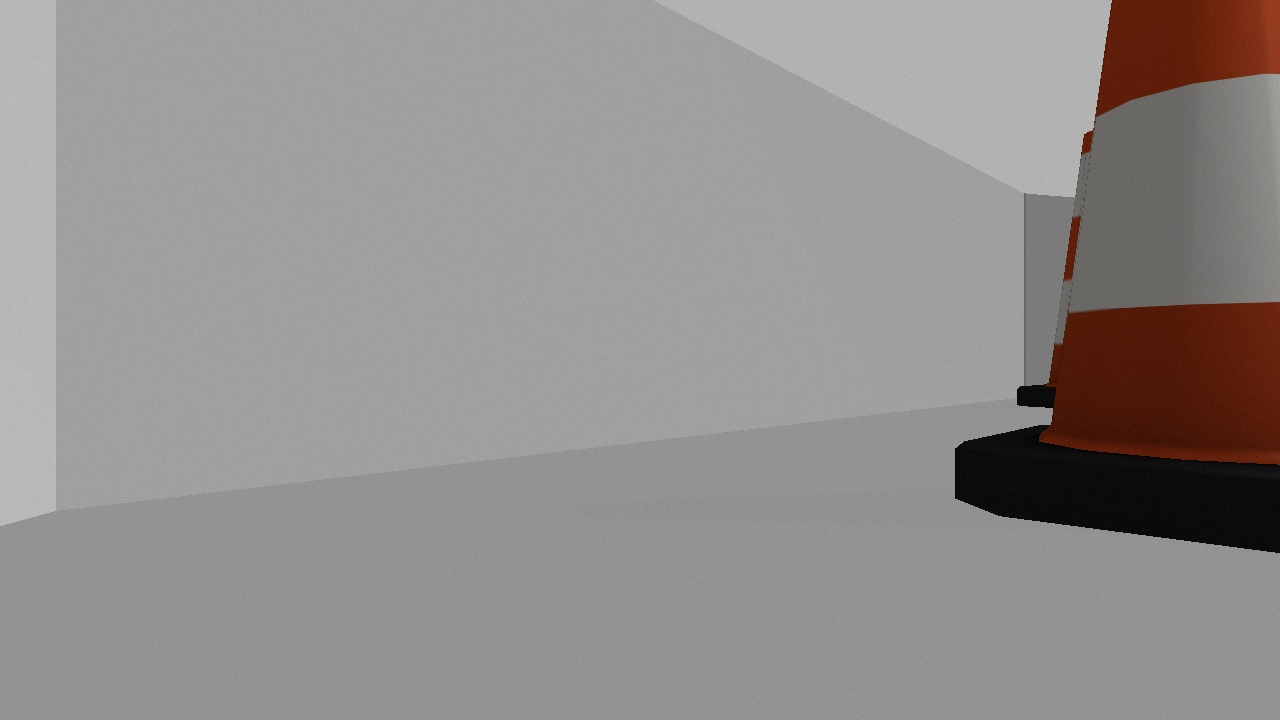barricade: (950, 9, 1280, 556)
